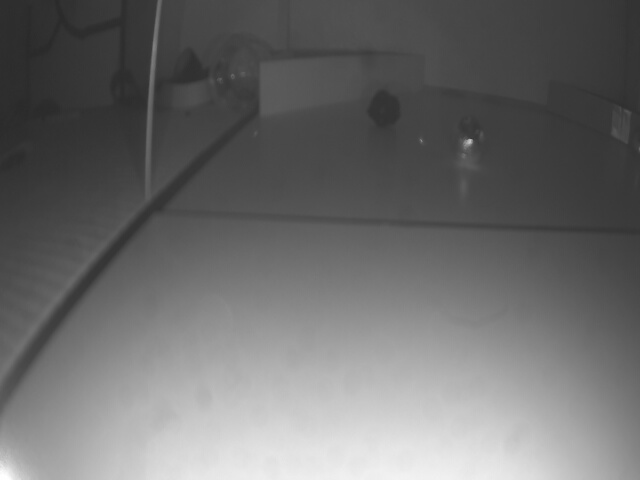Green: (546, 81, 640, 148)
Red: (261, 55, 422, 119)
